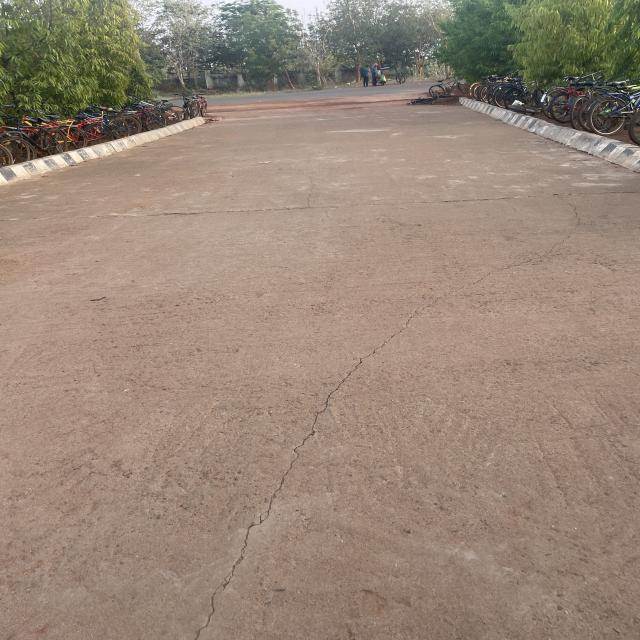D01: (207, 355, 358, 606)
D11: (110, 168, 613, 235)
